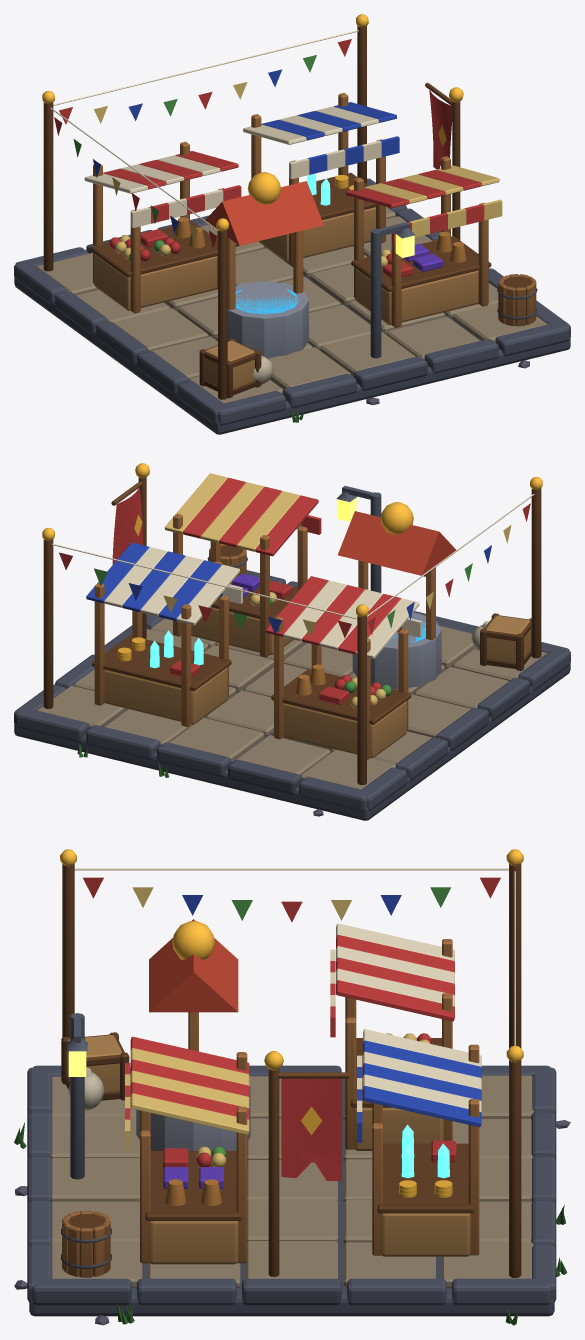
The model's file is market.glb.
The picture shows the model from 3 angles, top to bottom: view 1: azimuth 30°, elevation 25°; view 2: azimuth 150°, elevation 25°; view 3: azimuth 270°, elevation 25°; orthographic projection. The views are drawn at different scales.
Parts seen in each view (by area): view 1: t0_stone_warm, t0_stone_dark, t0_wood_dark, t0_wood_light, t0_wood, t0_cloth_cream, t0_cloth_red, t0_stone, t0_roof_red, t0_straw, t0_cloth_blue, t1_iron (+8 smaller); view 2: t0_stone_warm, t0_stone_dark, t0_wood_dark, t0_wood_light, t0_wood, t0_cloth_red, t0_cloth_cream, t0_straw, t0_roof_red, t0_cloth_blue, t0_stone, t2_cloth_red (+7 smaller); view 3: t0_stone_warm, t0_stone_dark, t0_wood_dark, t0_wood, t0_wood_light, t0_cloth_red, t0_cloth_cream, t0_straw, t2_cloth_red, t0_cloth_blue, t0_roof_red, t2_wood_dark (+9 smaller).
Part boxes in pixels (x1,y1,x2,y2): t0_stone_warm: [37, 206, 547, 403]; t0_stone_dark: [14, 178, 570, 434]; t0_wood_dark: [43, 26, 531, 399]; t0_wood_light: [94, 207, 478, 388]; t0_wood: [93, 93, 536, 327]; t0_cloth_cream: [50, 30, 381, 384]; t0_cloth_red: [54, 39, 484, 278]; t0_stone: [227, 281, 308, 358]; t0_roof_red: [205, 181, 323, 245]; t0_straw: [94, 82, 502, 267]; t0_cloth_blue: [93, 69, 399, 233]; t1_iron: [370, 222, 415, 358]; t0_stone_warm: [38, 618, 547, 789]; t0_stone_dark: [14, 570, 570, 820]; t0_wood_dark: [43, 488, 541, 784]; t0_wood_light: [104, 607, 531, 757]; t0_wood: [94, 513, 435, 759]; t0_cloth_red: [59, 477, 530, 708]; t0_cloth_cream: [52, 494, 534, 658]; t0_straw: [163, 473, 511, 708]; t0_roof_red: [338, 511, 456, 575]; t0_cloth_blue: [86, 542, 491, 634]; t0_stone: [352, 613, 441, 688]; t2_cloth_red: [112, 487, 143, 564]; t0_stone_warm: [49, 1075, 533, 1287]; t0_stone_dark: [27, 1065, 556, 1316]; t0_wood_dark: [61, 864, 521, 1277]; t0_wood: [62, 939, 479, 1277]; t0_wood_light: [66, 1035, 470, 1264]; t0_cloth_red: [83, 877, 500, 1168]; t0_cloth_cream: [68, 868, 515, 1112]; t0_straw: [125, 887, 430, 1166]; t2_cloth_red: [281, 1078, 341, 1181]; t0_cloth_blue: [182, 895, 481, 1142]; t0_roof_red: [149, 919, 238, 1012]; t2_wood_dark: [268, 1069, 348, 1276].
Bounding box in the file's own units: 3.05 × 1.61 × 3.12.
